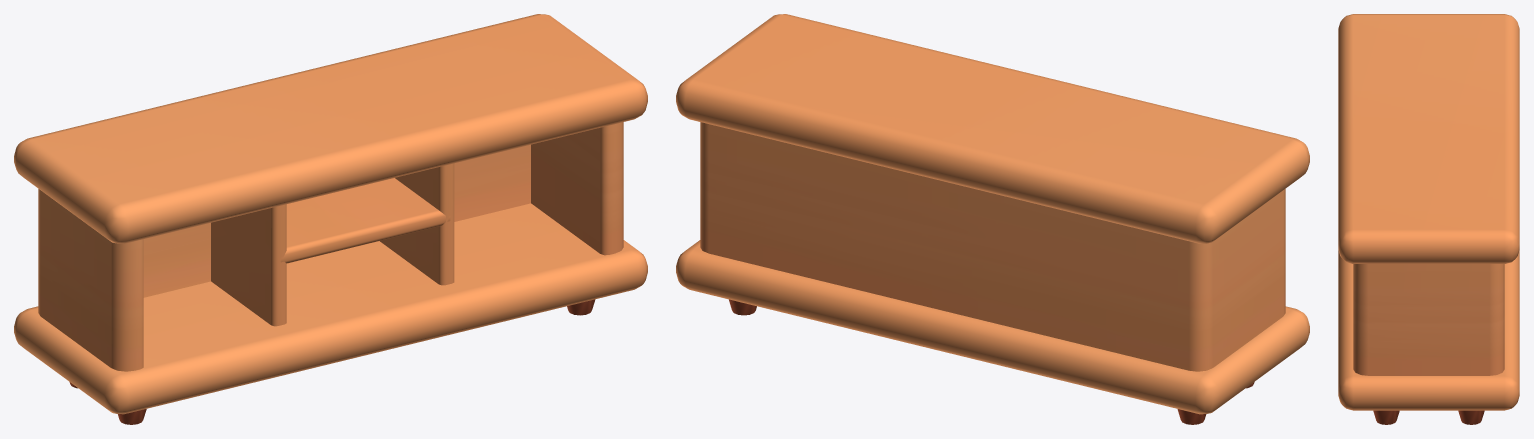
File: TV_Stand_02.glb
3 views of the same model, side by side, from view 1: azimuth 30°, elevation 25°; view 2: azimuth 150°, elevation 25°; view 3: azimuth 270°, elevation 25° (orthographic). The views are drawn at different scales.
Visible parts, largest first — view 1: TV_Stand_02; view 2: TV_Stand_02; view 3: TV_Stand_02.
Part boxes in pixels (<box>): TV_Stand_02: <box>14,14,647,424</box>; TV_Stand_02: <box>676,14,1309,424</box>; TV_Stand_02: <box>1338,14,1519,424</box>.
Size of the model in its own units: 1.42 by 0.6025 by 0.48.
1 material, 1 textured.
